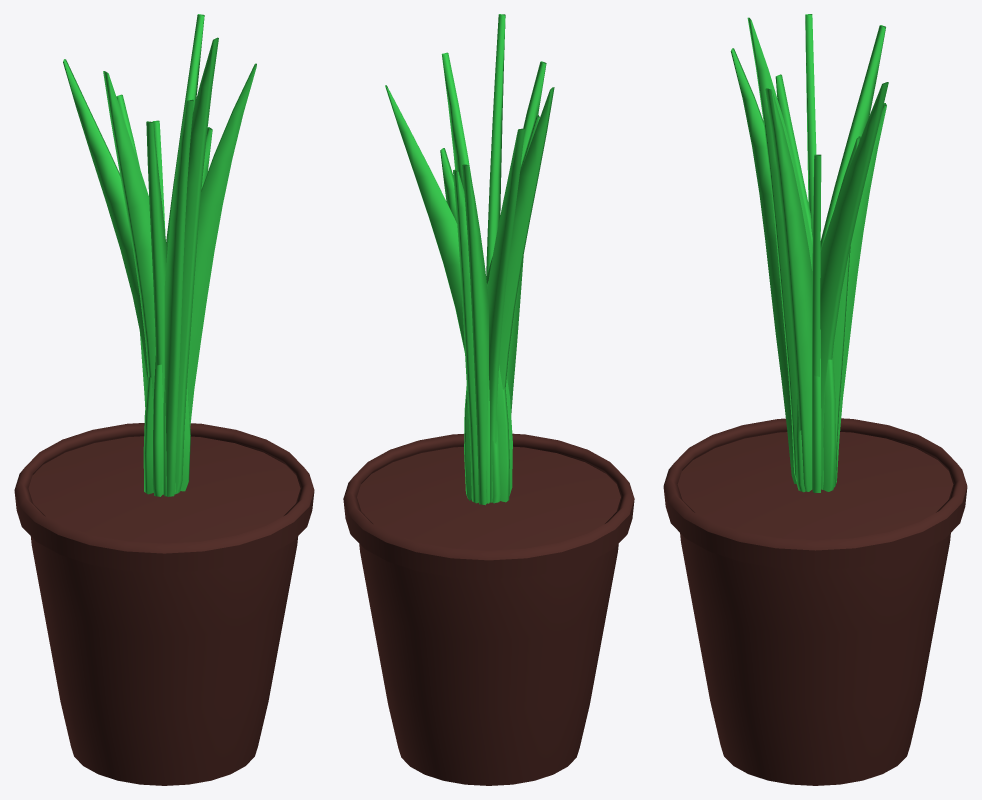
Rendered from Plante02_low.fbx.
3 views of the same model, side by side, from view 1: azimuth 30°, elevation 25°; view 2: azimuth 150°, elevation 25°; view 3: azimuth 270°, elevation 25° (orthographic). The views are drawn at different scales.
Visible parts, largest first — view 1: 02_Pot, 02_Plante, 02_Terre; view 2: 02_Pot, 02_Plante, 02_Terre; view 3: 02_Pot, 02_Plante, 02_Terre.
Boxes of the visible parts, x1,y1,x2,y2 form: 02_Pot: (14, 423, 314, 785); 02_Plante: (63, 14, 256, 496); 02_Terre: (28, 436, 300, 543); 02_Pot: (343, 433, 634, 785); 02_Plante: (385, 14, 554, 505); 02_Terre: (357, 446, 620, 550); 02_Pot: (663, 418, 967, 785); 02_Plante: (730, 14, 888, 492); 02_Terre: (677, 432, 953, 540).
Bounding box in the file's own units: 34.67 × 92.65 × 34.67.
